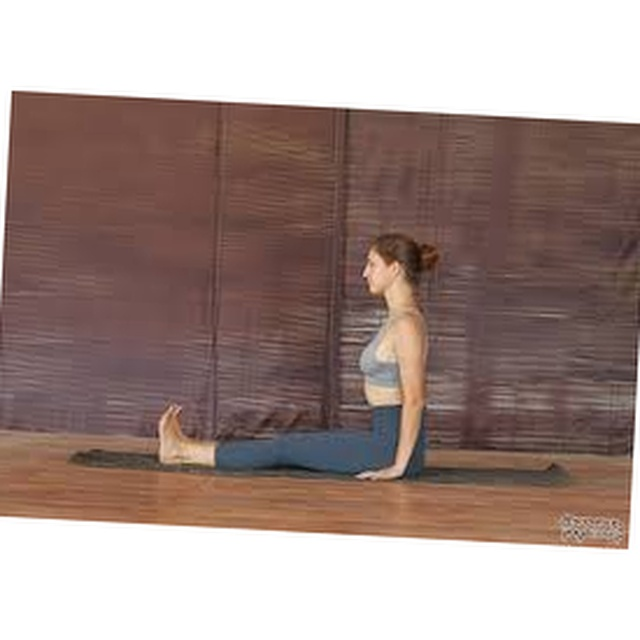Staff_Pose: (157, 234, 441, 483)
